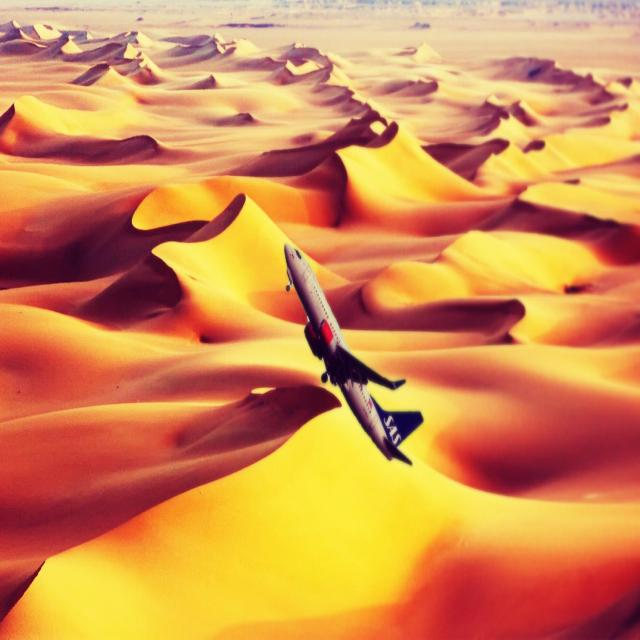airplane: (283, 241, 424, 465)
